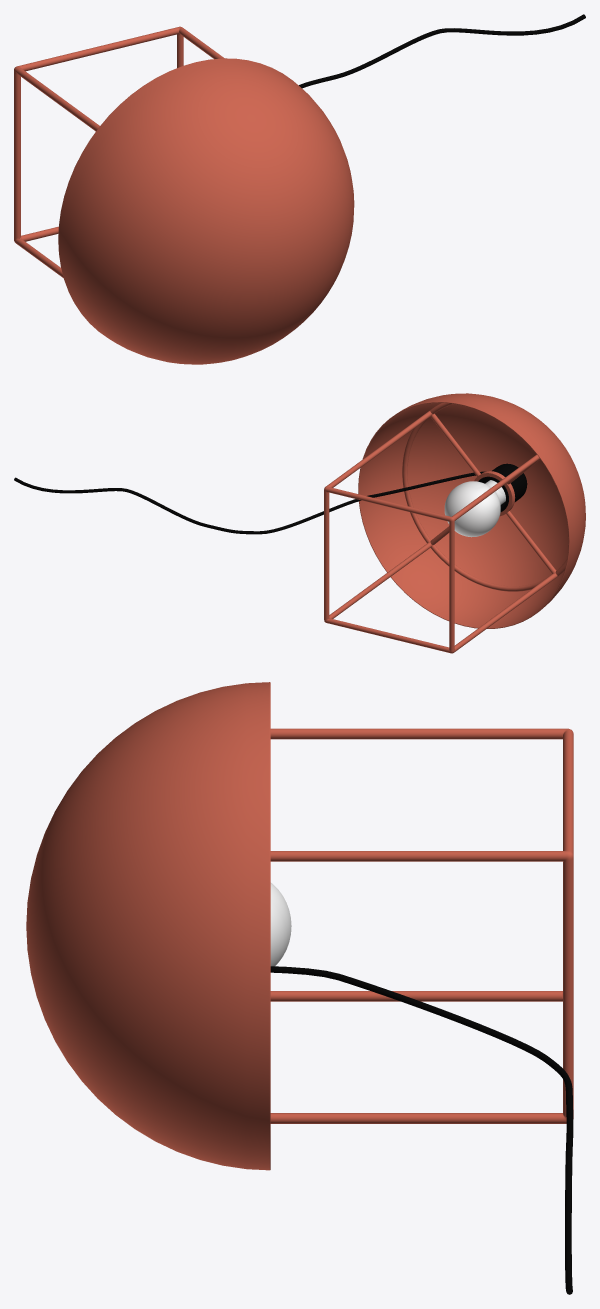
File: Almerich_Coco_S_mat(3).obj
3 renders of one model, top to bottom at view 1: azimuth 30°, elevation 25°; view 2: azimuth 150°, elevation 25°; view 3: azimuth 270°, elevation 25°, orthographic. The views are drawn at different scales.
Parts seen in each view (by area): view 1: Almerich_Coco_S_mat3; view 2: Almerich_Coco_S_mat3; view 3: Almerich_Coco_S_mat3.
Boxes of the visible parts, bbox=[...] form: Almerich_Coco_S_mat3: bbox=[14, 14, 585, 364]; Almerich_Coco_S_mat3: bbox=[14, 393, 585, 653]; Almerich_Coco_S_mat3: bbox=[26, 682, 573, 1294].
Size of the model in its own units: 56.75 by 25 by 28.
